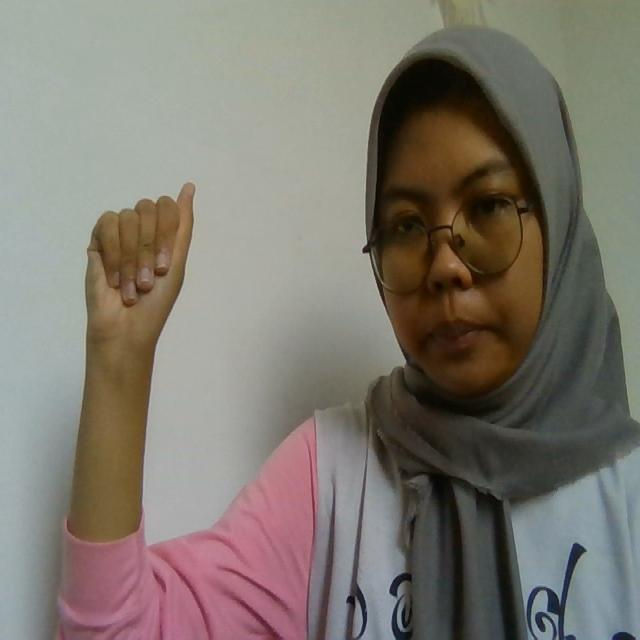A: (84, 182, 199, 338)
